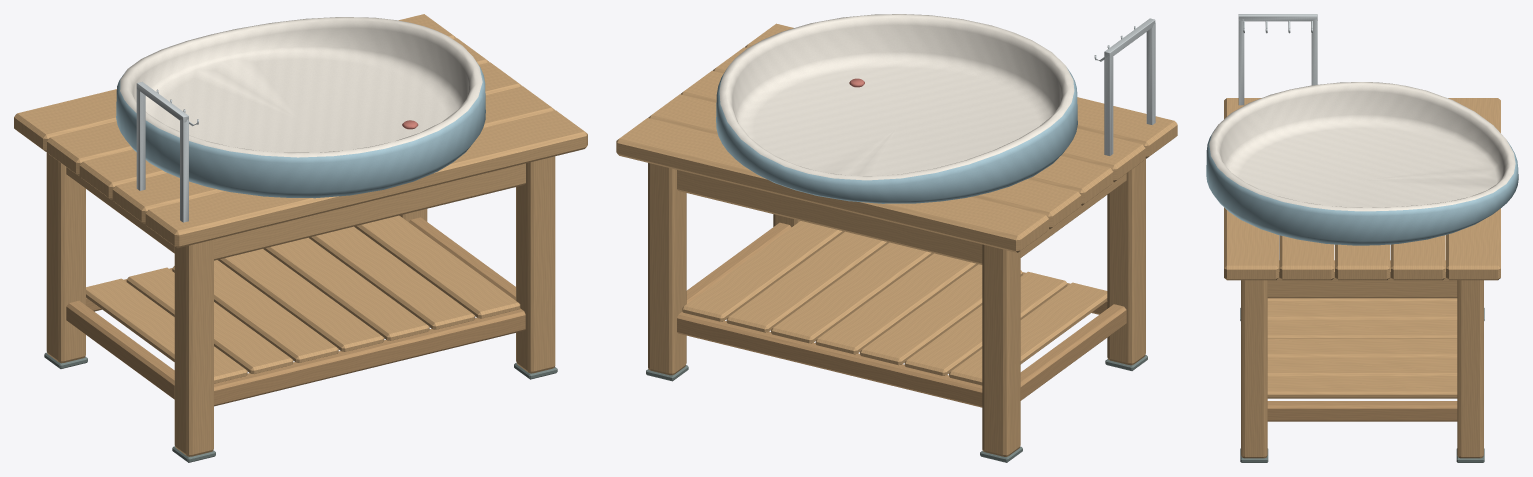
File: real_tub.glb
The picture shows the model from 3 angles, left to right: view 1: azimuth 30°, elevation 25°; view 2: azimuth 150°, elevation 25°; view 3: azimuth 270°, elevation 25°; orthographic projection. The views are drawn at different scales.
Parts seen in each view (by area): view 1: Stand, Tub, ToolRack; view 2: Stand, Tub, ToolRack; view 3: Stand, Tub, ToolRack.
Boxes of the visible parts, x1,y1,x2,y2 form: Stand: [14, 14, 587, 462]; Tub: [116, 17, 485, 198]; ToolRack: [136, 82, 198, 222]; Stand: [616, 23, 1177, 462]; Tub: [716, 14, 1077, 203]; ToolRack: [1094, 18, 1155, 155]; Stand: [1224, 98, 1500, 462]; Tub: [1206, 82, 1518, 245]; ToolRack: [1238, 14, 1317, 105].
Size of the model in its own units: 1.6 by 1.29 by 1.24.
Materials: 7 (7 with a texture image).
